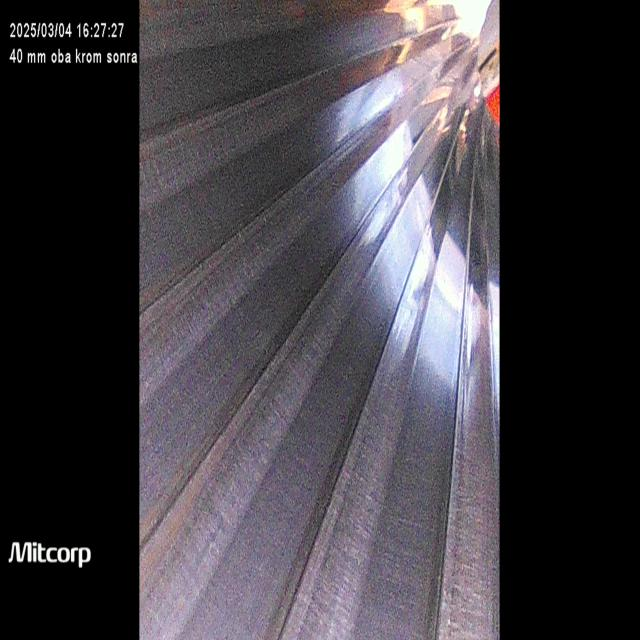hata_8.1: (438, 461, 506, 638)
